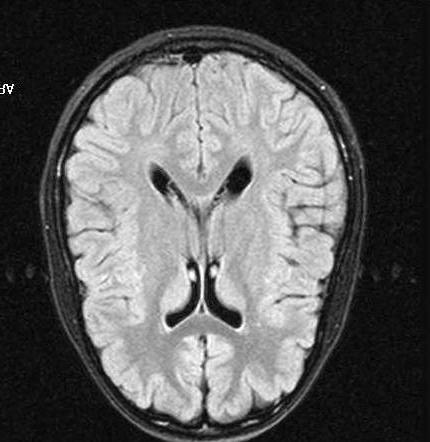Normal_Brain: (1, 1, 419, 442)
